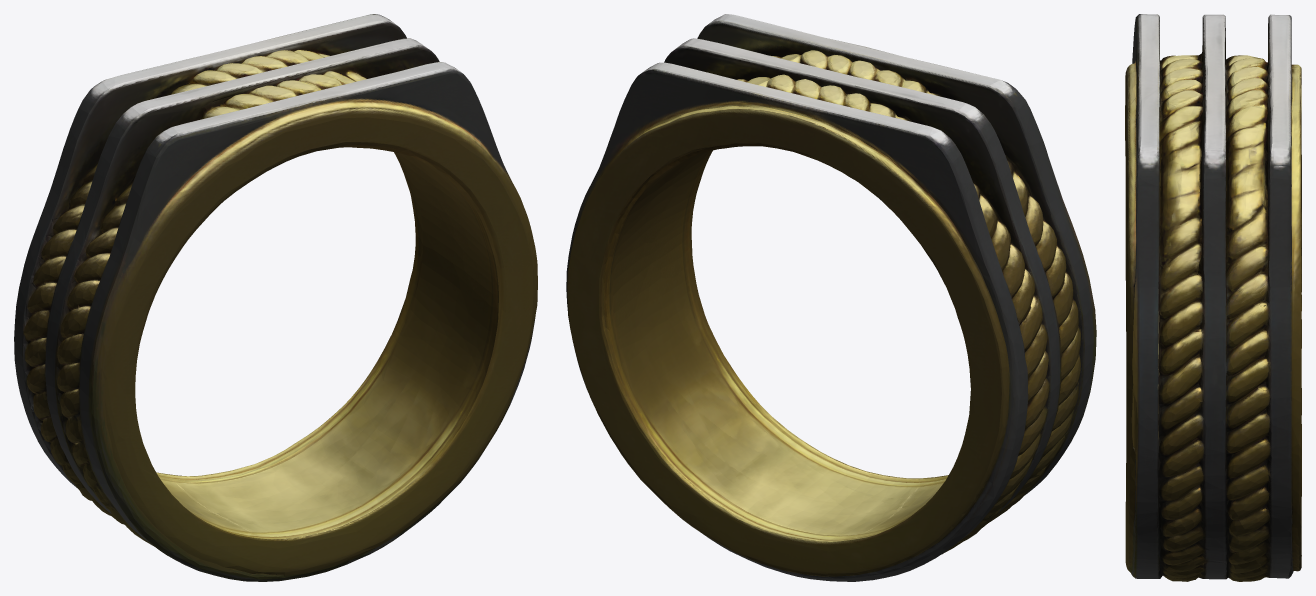
The model's file is before.glb.
The picture shows the model from 3 angles, left to right: view 1: azimuth 30°, elevation 25°; view 2: azimuth 150°, elevation 25°; view 3: azimuth 270°, elevation 25°; orthographic projection.
Visible parts, largest first — view 1: world; view 2: world; view 3: world.
Part boxes in pixels (x1,y1,x2,y2): world: (14,14,537,581); world: (566,14,1096,581); world: (1125,14,1301,581).
Bounding box in the file's own units: 0.996 × 0.9981 × 0.3349.
Materials: 1 (1 with a texture image).
